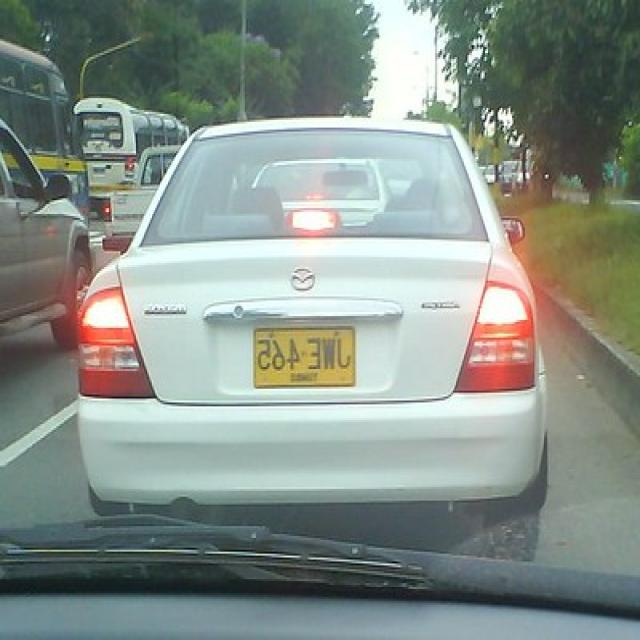placas: (255, 330, 354, 372)
